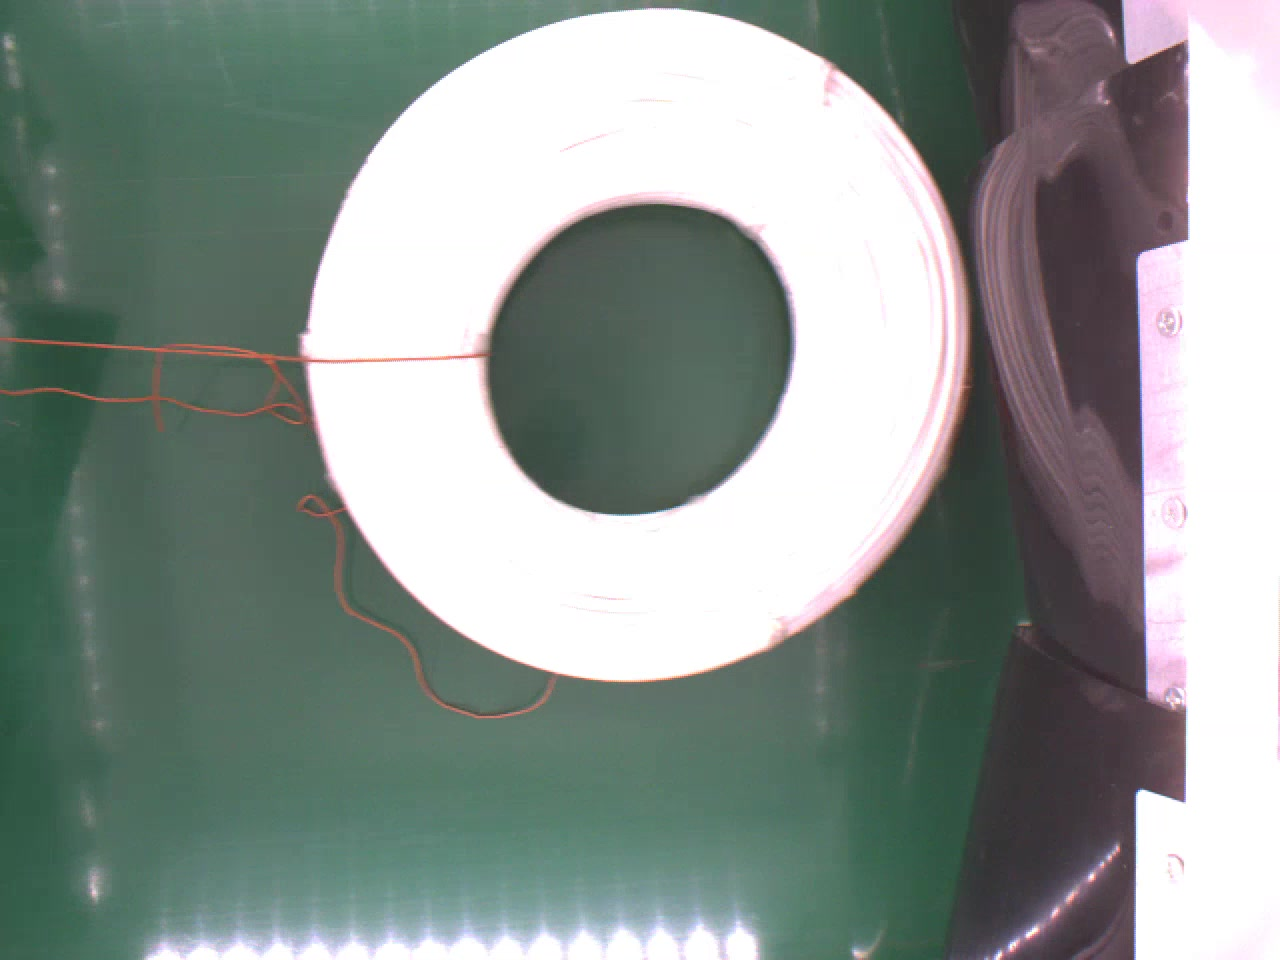white: (298, 5, 976, 676)
